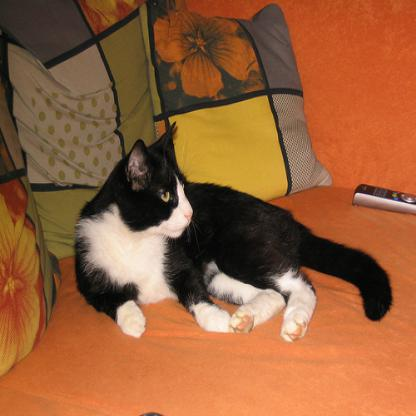cat: (75, 136, 388, 344)
sofa: (1, 2, 414, 412)
